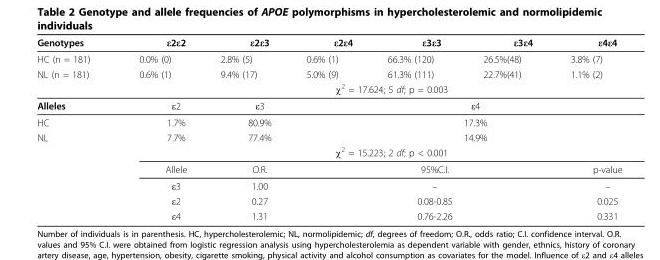table: (36, 36, 621, 221)
table column: (369, 36, 461, 221), (113, 36, 202, 221), (461, 36, 550, 221), (202, 36, 288, 221), (288, 36, 369, 221), (36, 36, 113, 221), (550, 36, 621, 221)
table column header: (36, 36, 621, 50)
table row: (36, 80, 621, 97), (36, 143, 621, 160), (36, 160, 621, 177), (36, 50, 621, 66), (36, 97, 621, 113), (36, 113, 621, 129), (36, 177, 621, 192), (36, 192, 621, 207), (36, 36, 621, 50), (36, 66, 621, 80), (36, 129, 621, 143), (36, 207, 621, 221)
table spanning cell: (113, 80, 621, 97), (113, 143, 621, 160), (36, 129, 113, 221), (288, 97, 621, 113), (288, 113, 621, 129), (288, 129, 621, 143), (288, 160, 550, 177), (288, 177, 550, 192), (288, 192, 550, 207), (288, 207, 550, 221), (36, 66, 113, 97)
